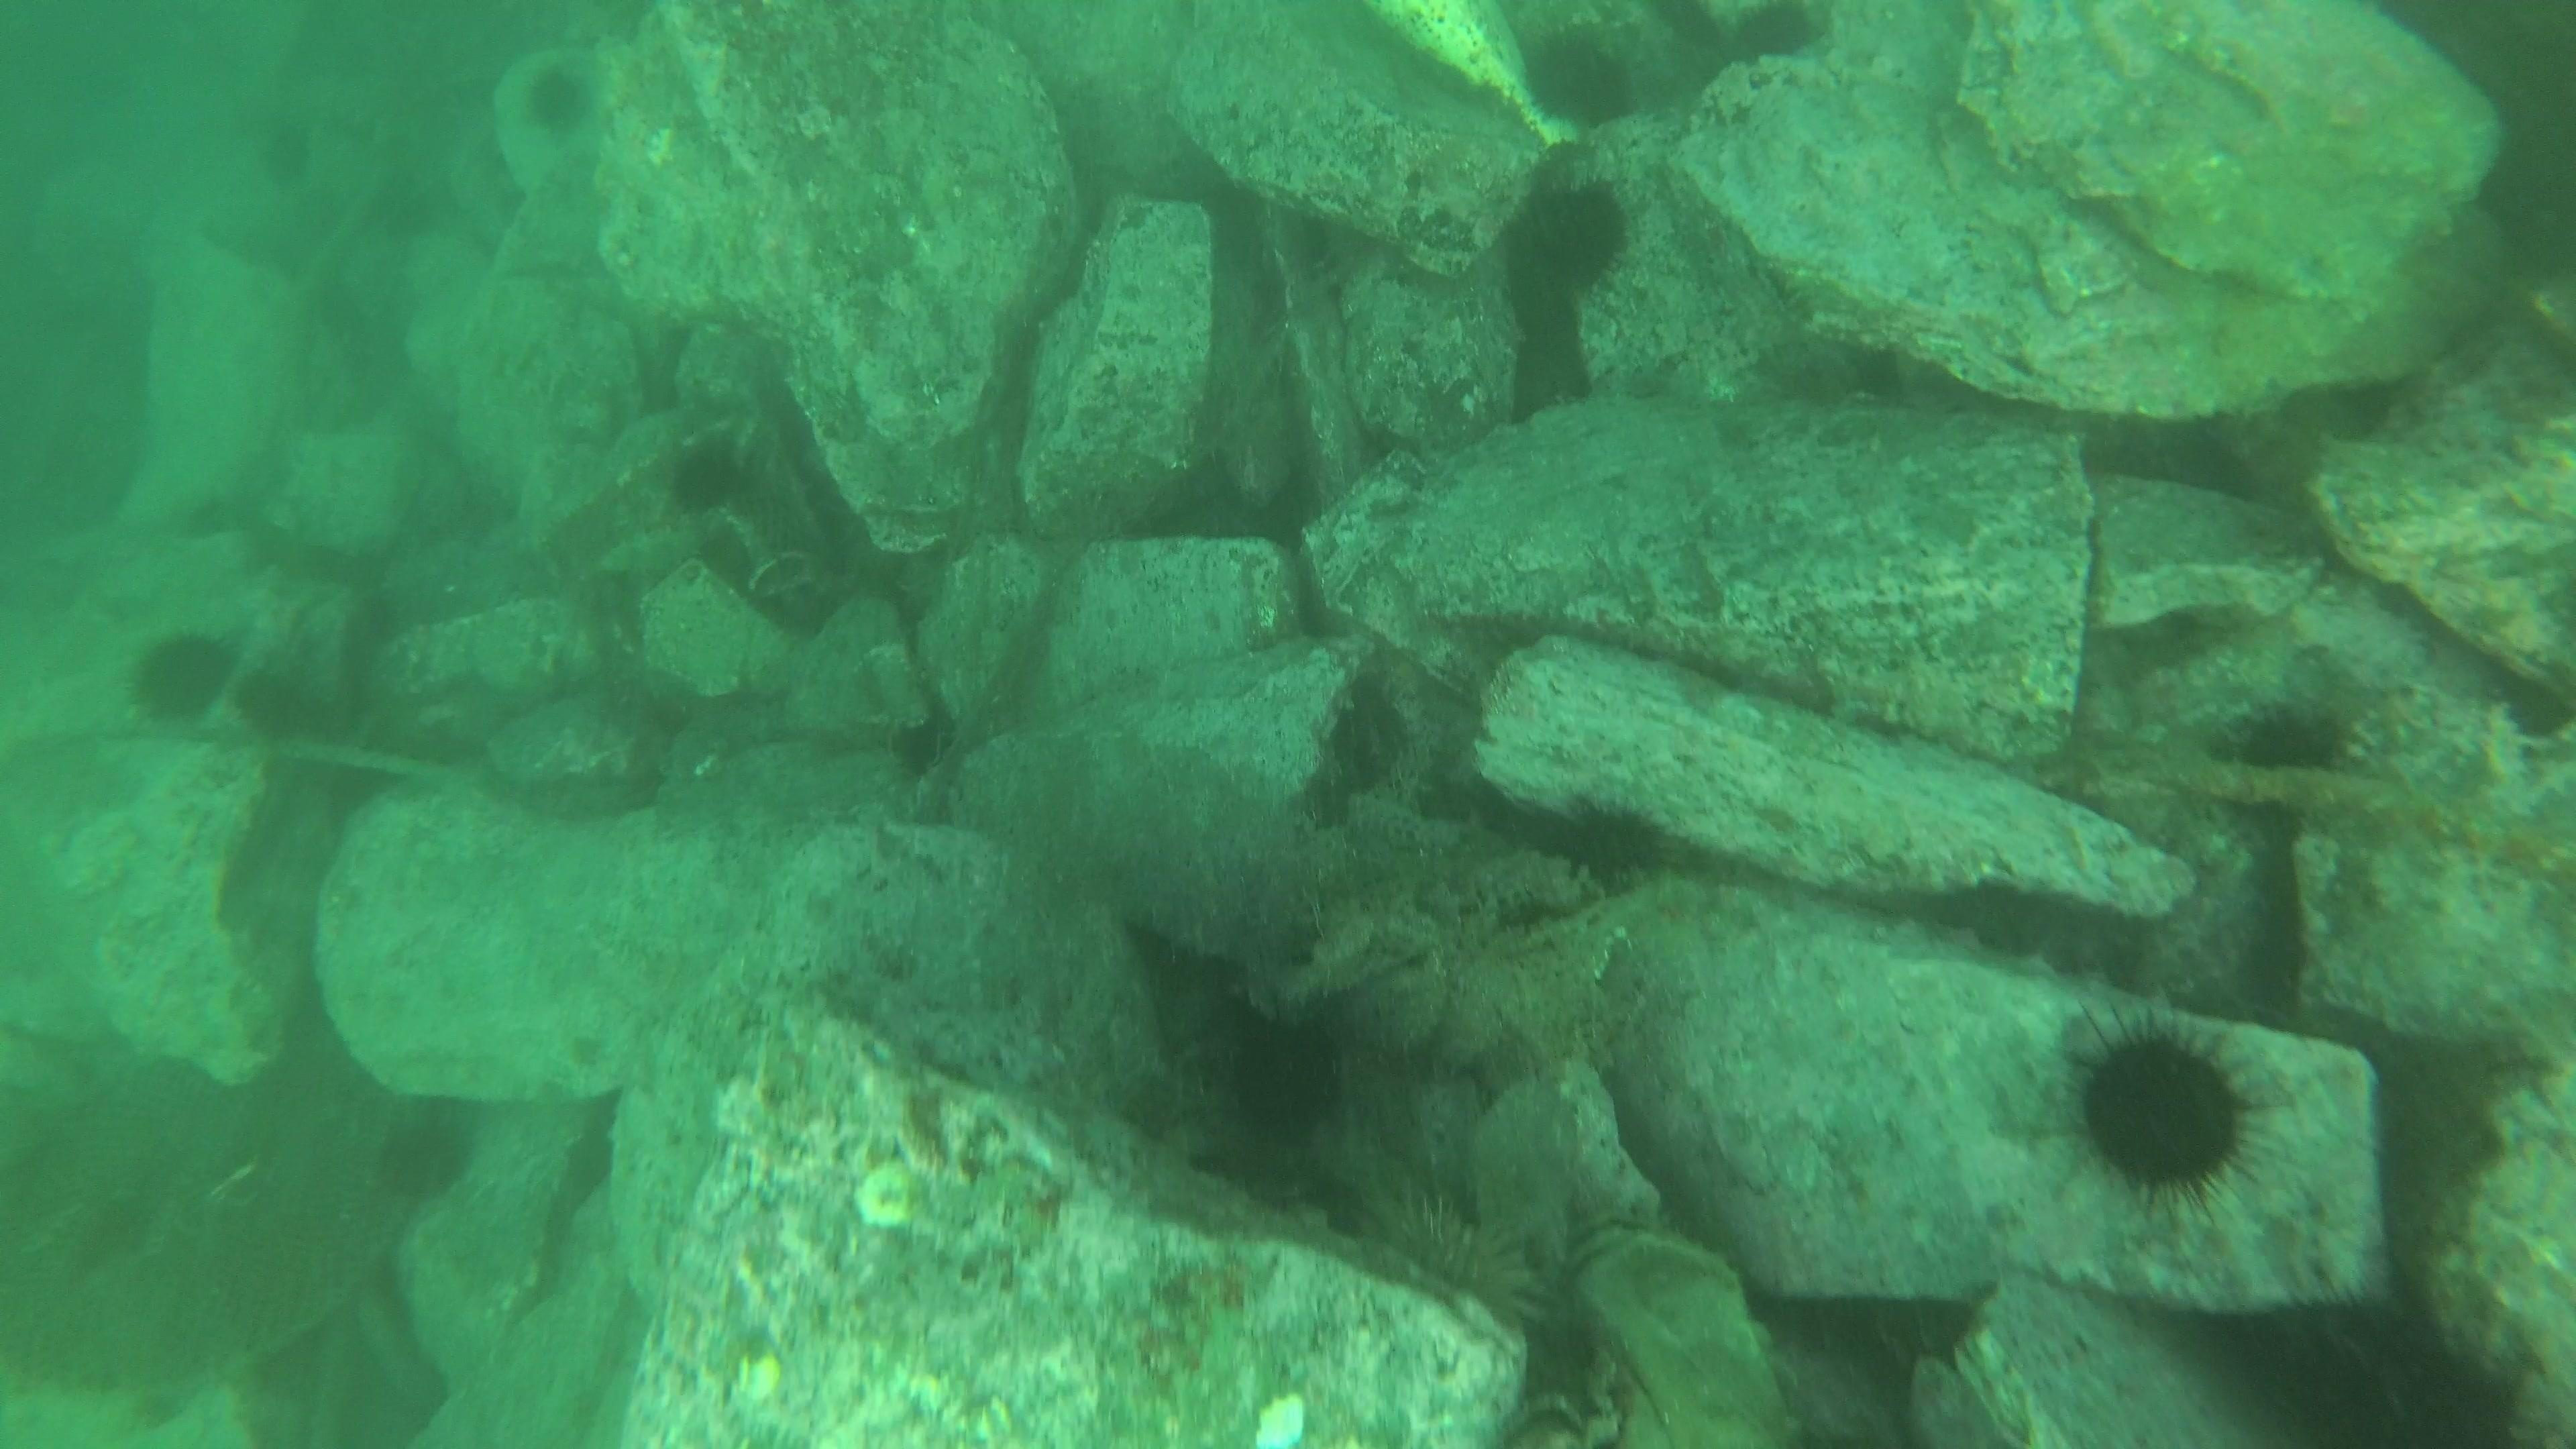echinus: (2212, 1286, 2548, 1445), (2056, 1008, 2268, 1210), (1353, 1187, 1546, 1336), (1210, 1000, 1352, 1146), (1516, 172, 1638, 295), (1516, 21, 1644, 134), (2217, 694, 2362, 782), (122, 625, 242, 731), (366, 1100, 481, 1210), (660, 428, 759, 520), (230, 658, 326, 748), (517, 57, 602, 142)
